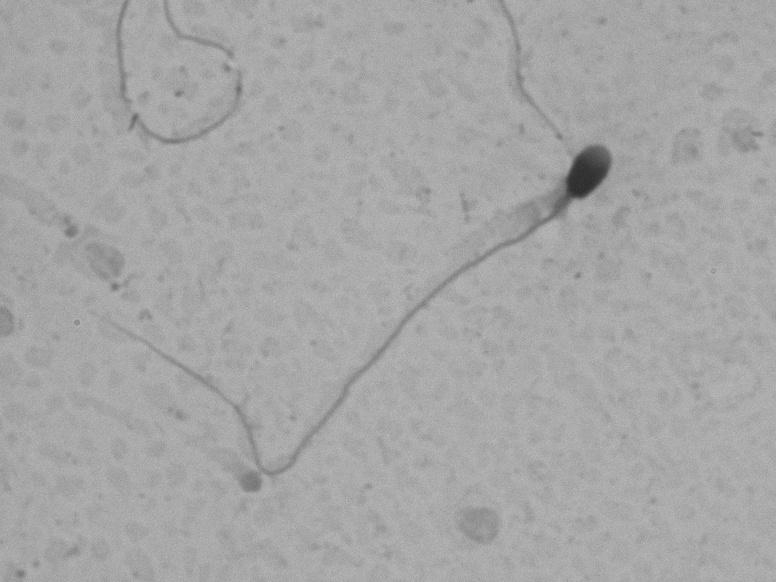Normal: (71, 135, 619, 516)
